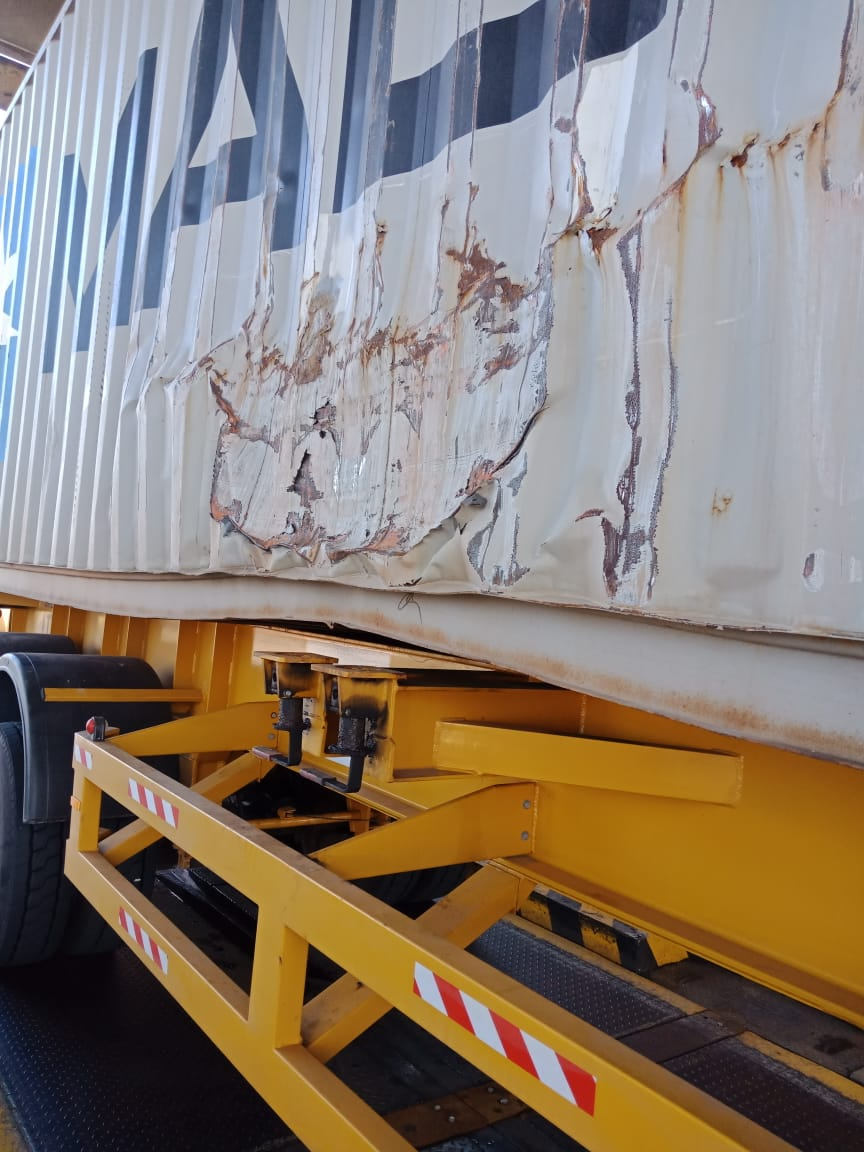moderate: (153, 71, 853, 575)
